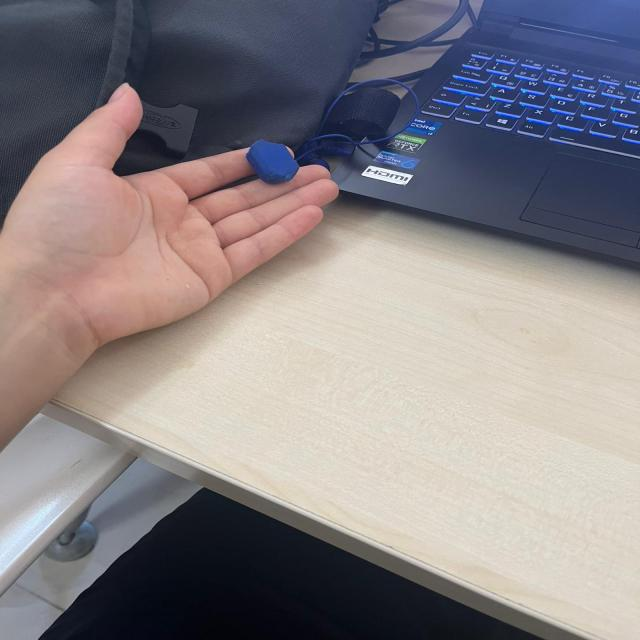eraser: (241, 131, 304, 187)
